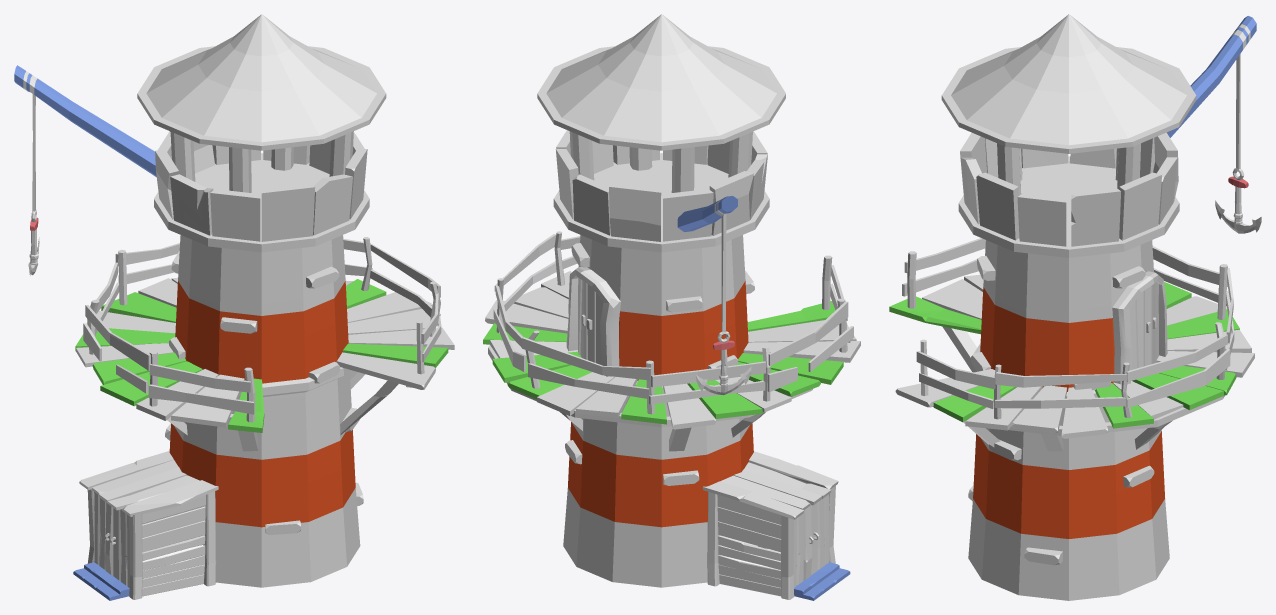
The model's file is Lighthouse.fbx.
3 renders of one model, left to right at view 1: azimuth 30°, elevation 25°; view 2: azimuth 150°, elevation 25°; view 3: azimuth 270°, elevation 25°, orthographic. The views are drawn at different scales.
Parts seen in each view (by area): view 1: Lighthouse.002; view 2: Lighthouse.002; view 3: Lighthouse.002.
Part boxes in pixels (x1=…): Lighthouse.002: x1=14, y1=14, x2=454, y2=600; Lighthouse.002: x1=483, y1=14, x2=860, y2=600; Lighthouse.002: x1=889, y1=14, x2=1261, y2=600.
Size of the model in its own units: 6.87 by 10.32 by 6.4.
